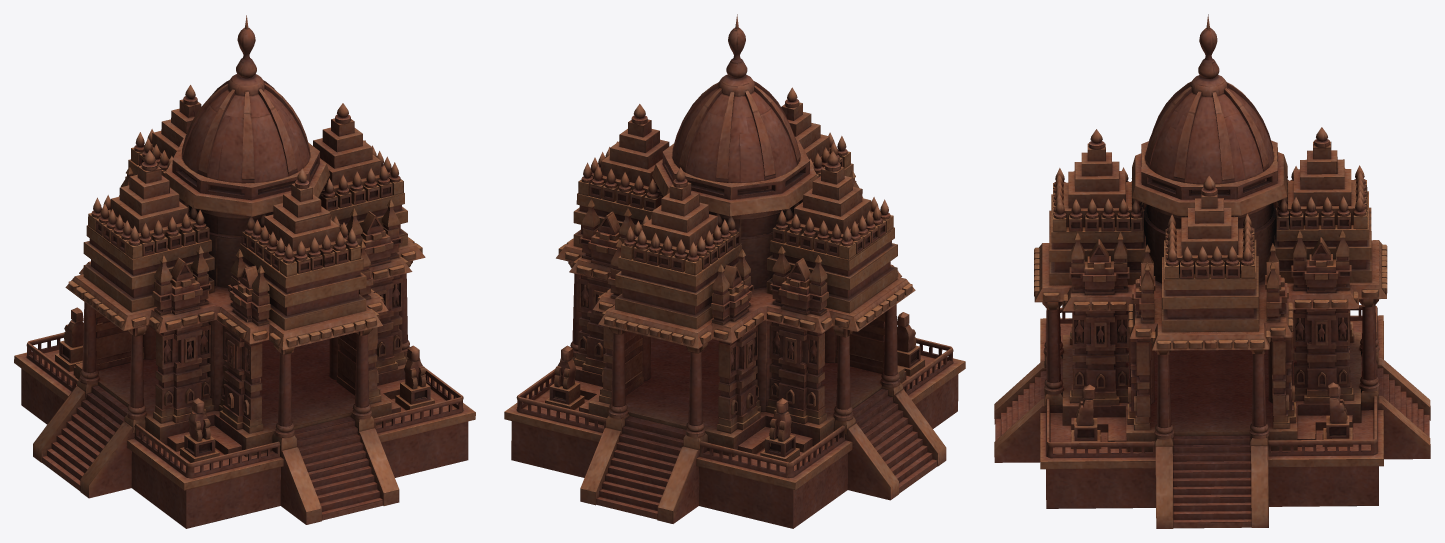
File: templeindian.glb
3 views of the same model, side by side, from view 1: azimuth 30°, elevation 25°; view 2: azimuth 150°, elevation 25°; view 3: azimuth 270°, elevation 25° (orthographic).
Parts seen in each view (by area): view 1: Plane.017; view 2: Plane.017; view 3: Plane.017.
Part boxes in pixels (bbox=[...]): Plane.017: bbox=[14, 15, 475, 528]; Plane.017: bbox=[504, 14, 965, 528]; Plane.017: bbox=[994, 14, 1430, 528].
Size of the model in its own units: 2.69 by 2.95 by 2.74.
Materials: 1 (1 with a texture image).
